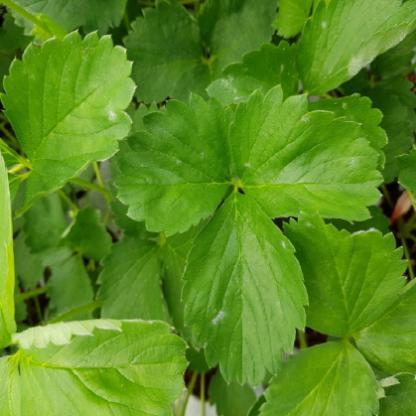Strawberry_Powdery_Mildew_Leaf: (178, 188, 310, 390), (228, 85, 385, 225), (0, 27, 139, 181), (282, 211, 413, 337), (295, 0, 416, 96), (206, 38, 302, 106)
